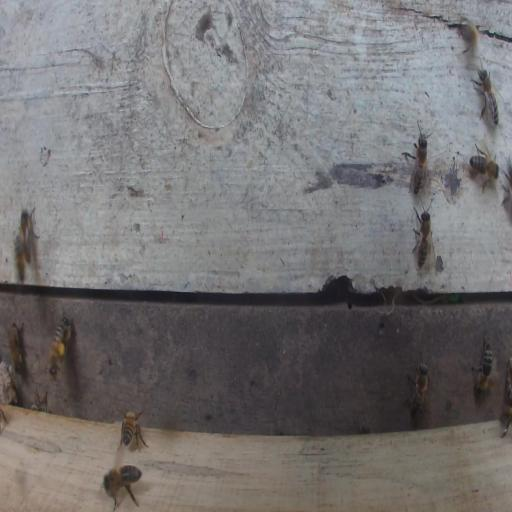bee: (402, 120, 432, 197), (12, 206, 38, 283), (471, 67, 502, 127), (103, 464, 142, 510), (469, 141, 499, 194), (405, 360, 429, 419), (412, 206, 433, 271), (118, 408, 149, 452), (471, 334, 493, 394), (48, 324, 66, 378), (7, 322, 24, 374), (501, 165, 512, 216), (31, 389, 50, 412), (500, 407, 512, 437)
